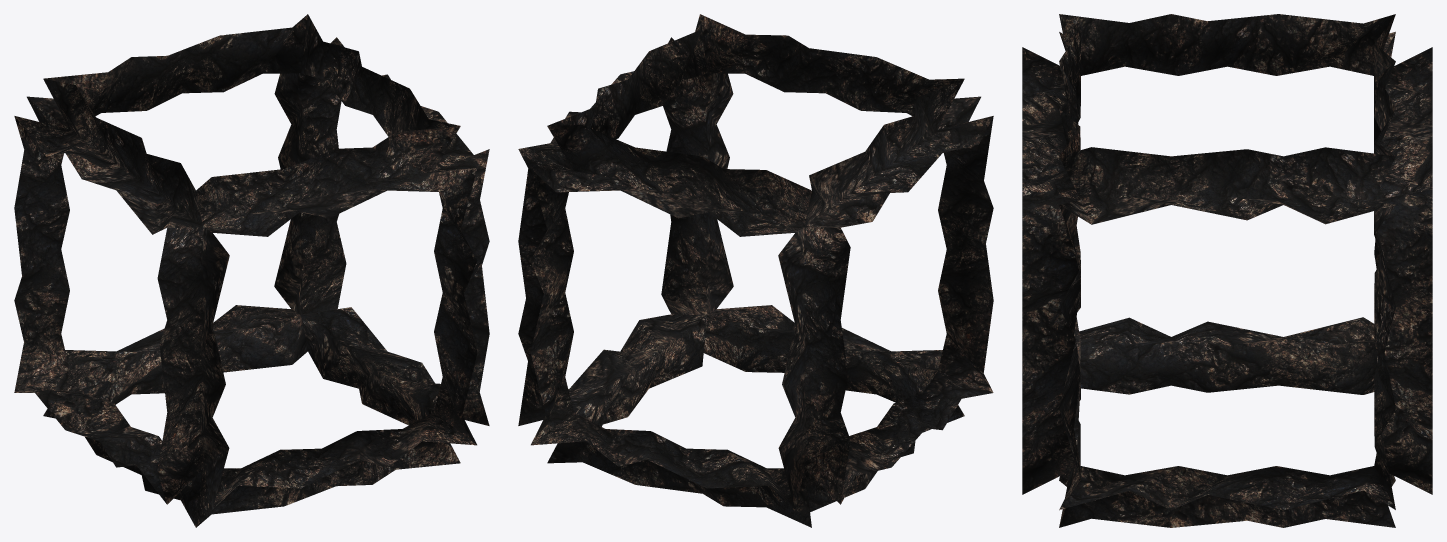
File: Level Piece - 6 Way Intersection.FBX
3 views of the same model, side by side, from view 1: azimuth 30°, elevation 25°; view 2: azimuth 150°, elevation 25°; view 3: azimuth 270°, elevation 25° (orthographic). The views are drawn at different scales.
Parts seen in each view (by area): view 1: 6-Intersection001; view 2: 6-Intersection001; view 3: 6-Intersection001.
Part boxes in pixels (bbox=[...]): 6-Intersection001: bbox=[14, 14, 489, 527]; 6-Intersection001: bbox=[518, 14, 993, 527]; 6-Intersection001: bbox=[1022, 14, 1432, 527].
Bounding box in the file's own units: 254 × 254 × 254.
Materials: 1 (1 with a texture image).
